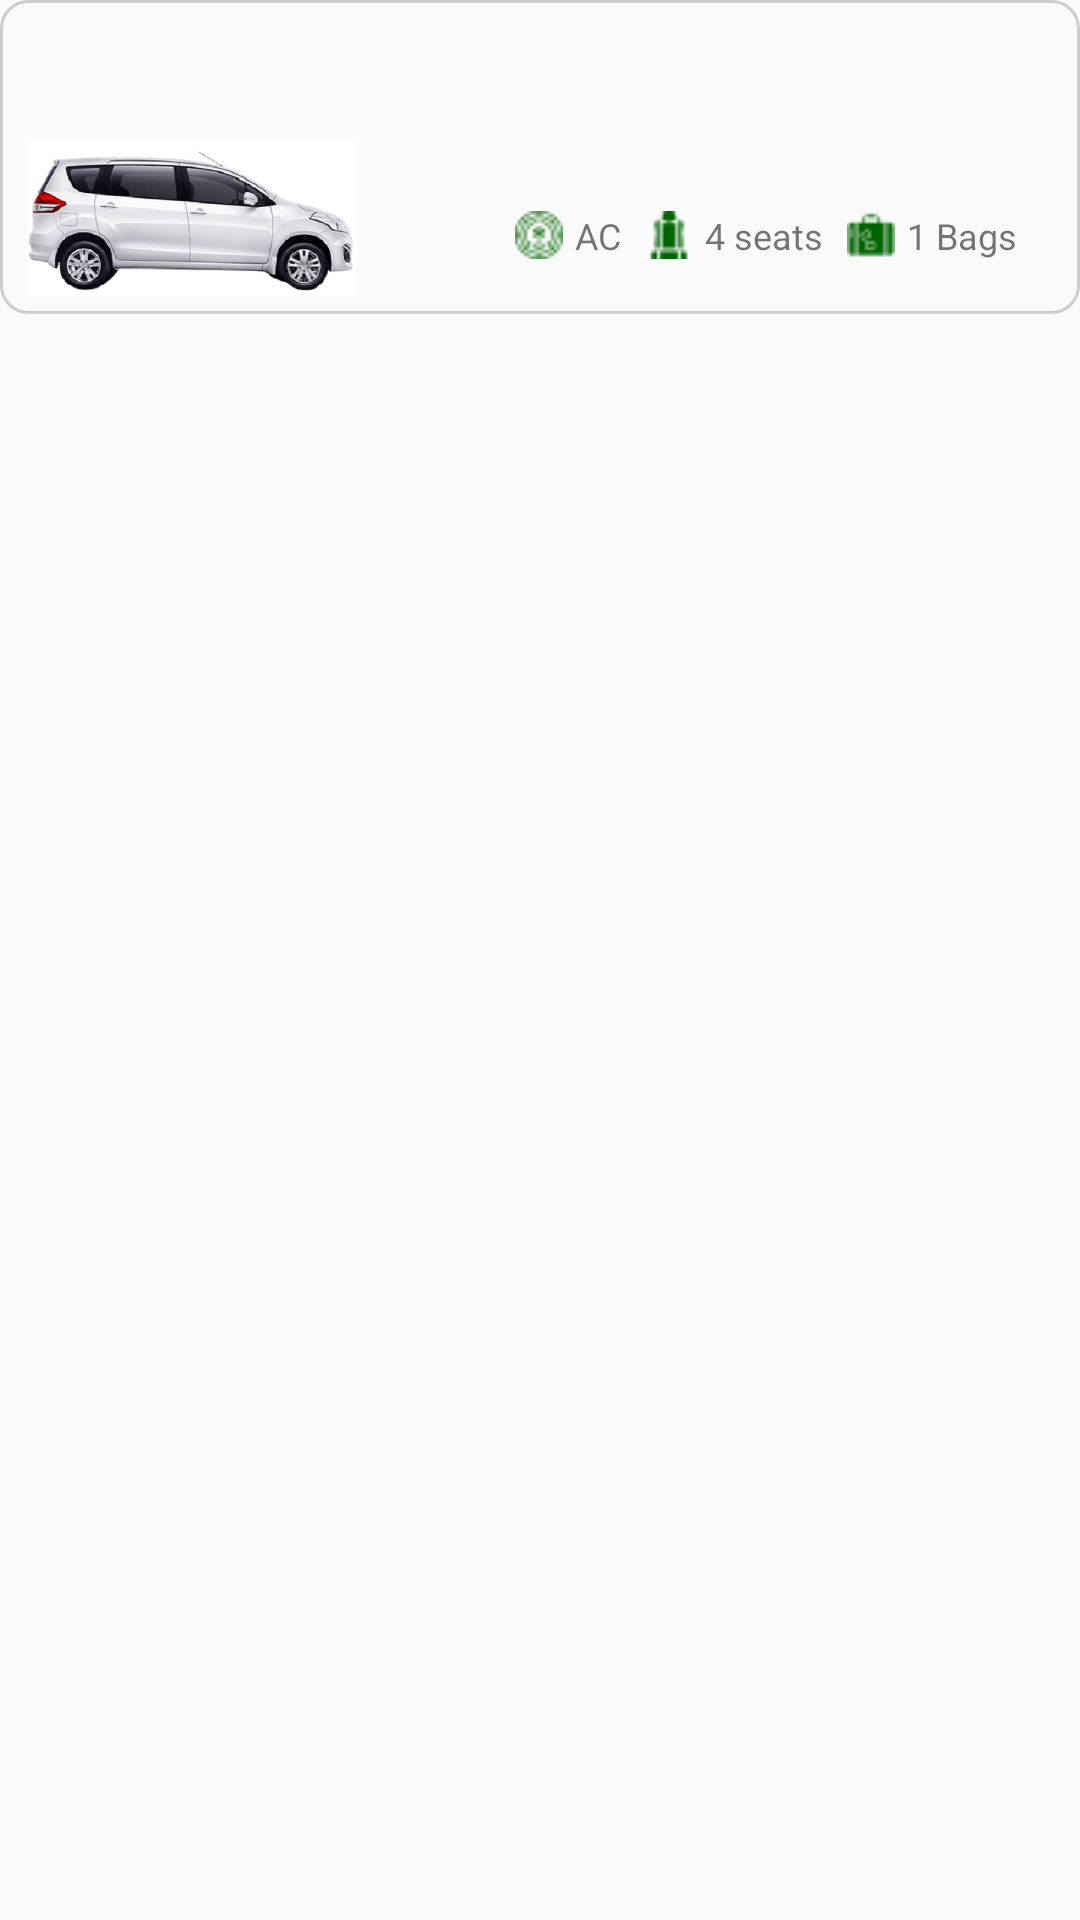

Locate icon controls on the screen. Image size 1080x1920, boxes as {"x1": x1, "y1": y1, "x2": x2, "y2": y2}.
ertiga: {"x1": 29, "y1": 152, "x2": 353, "y2": 291}
